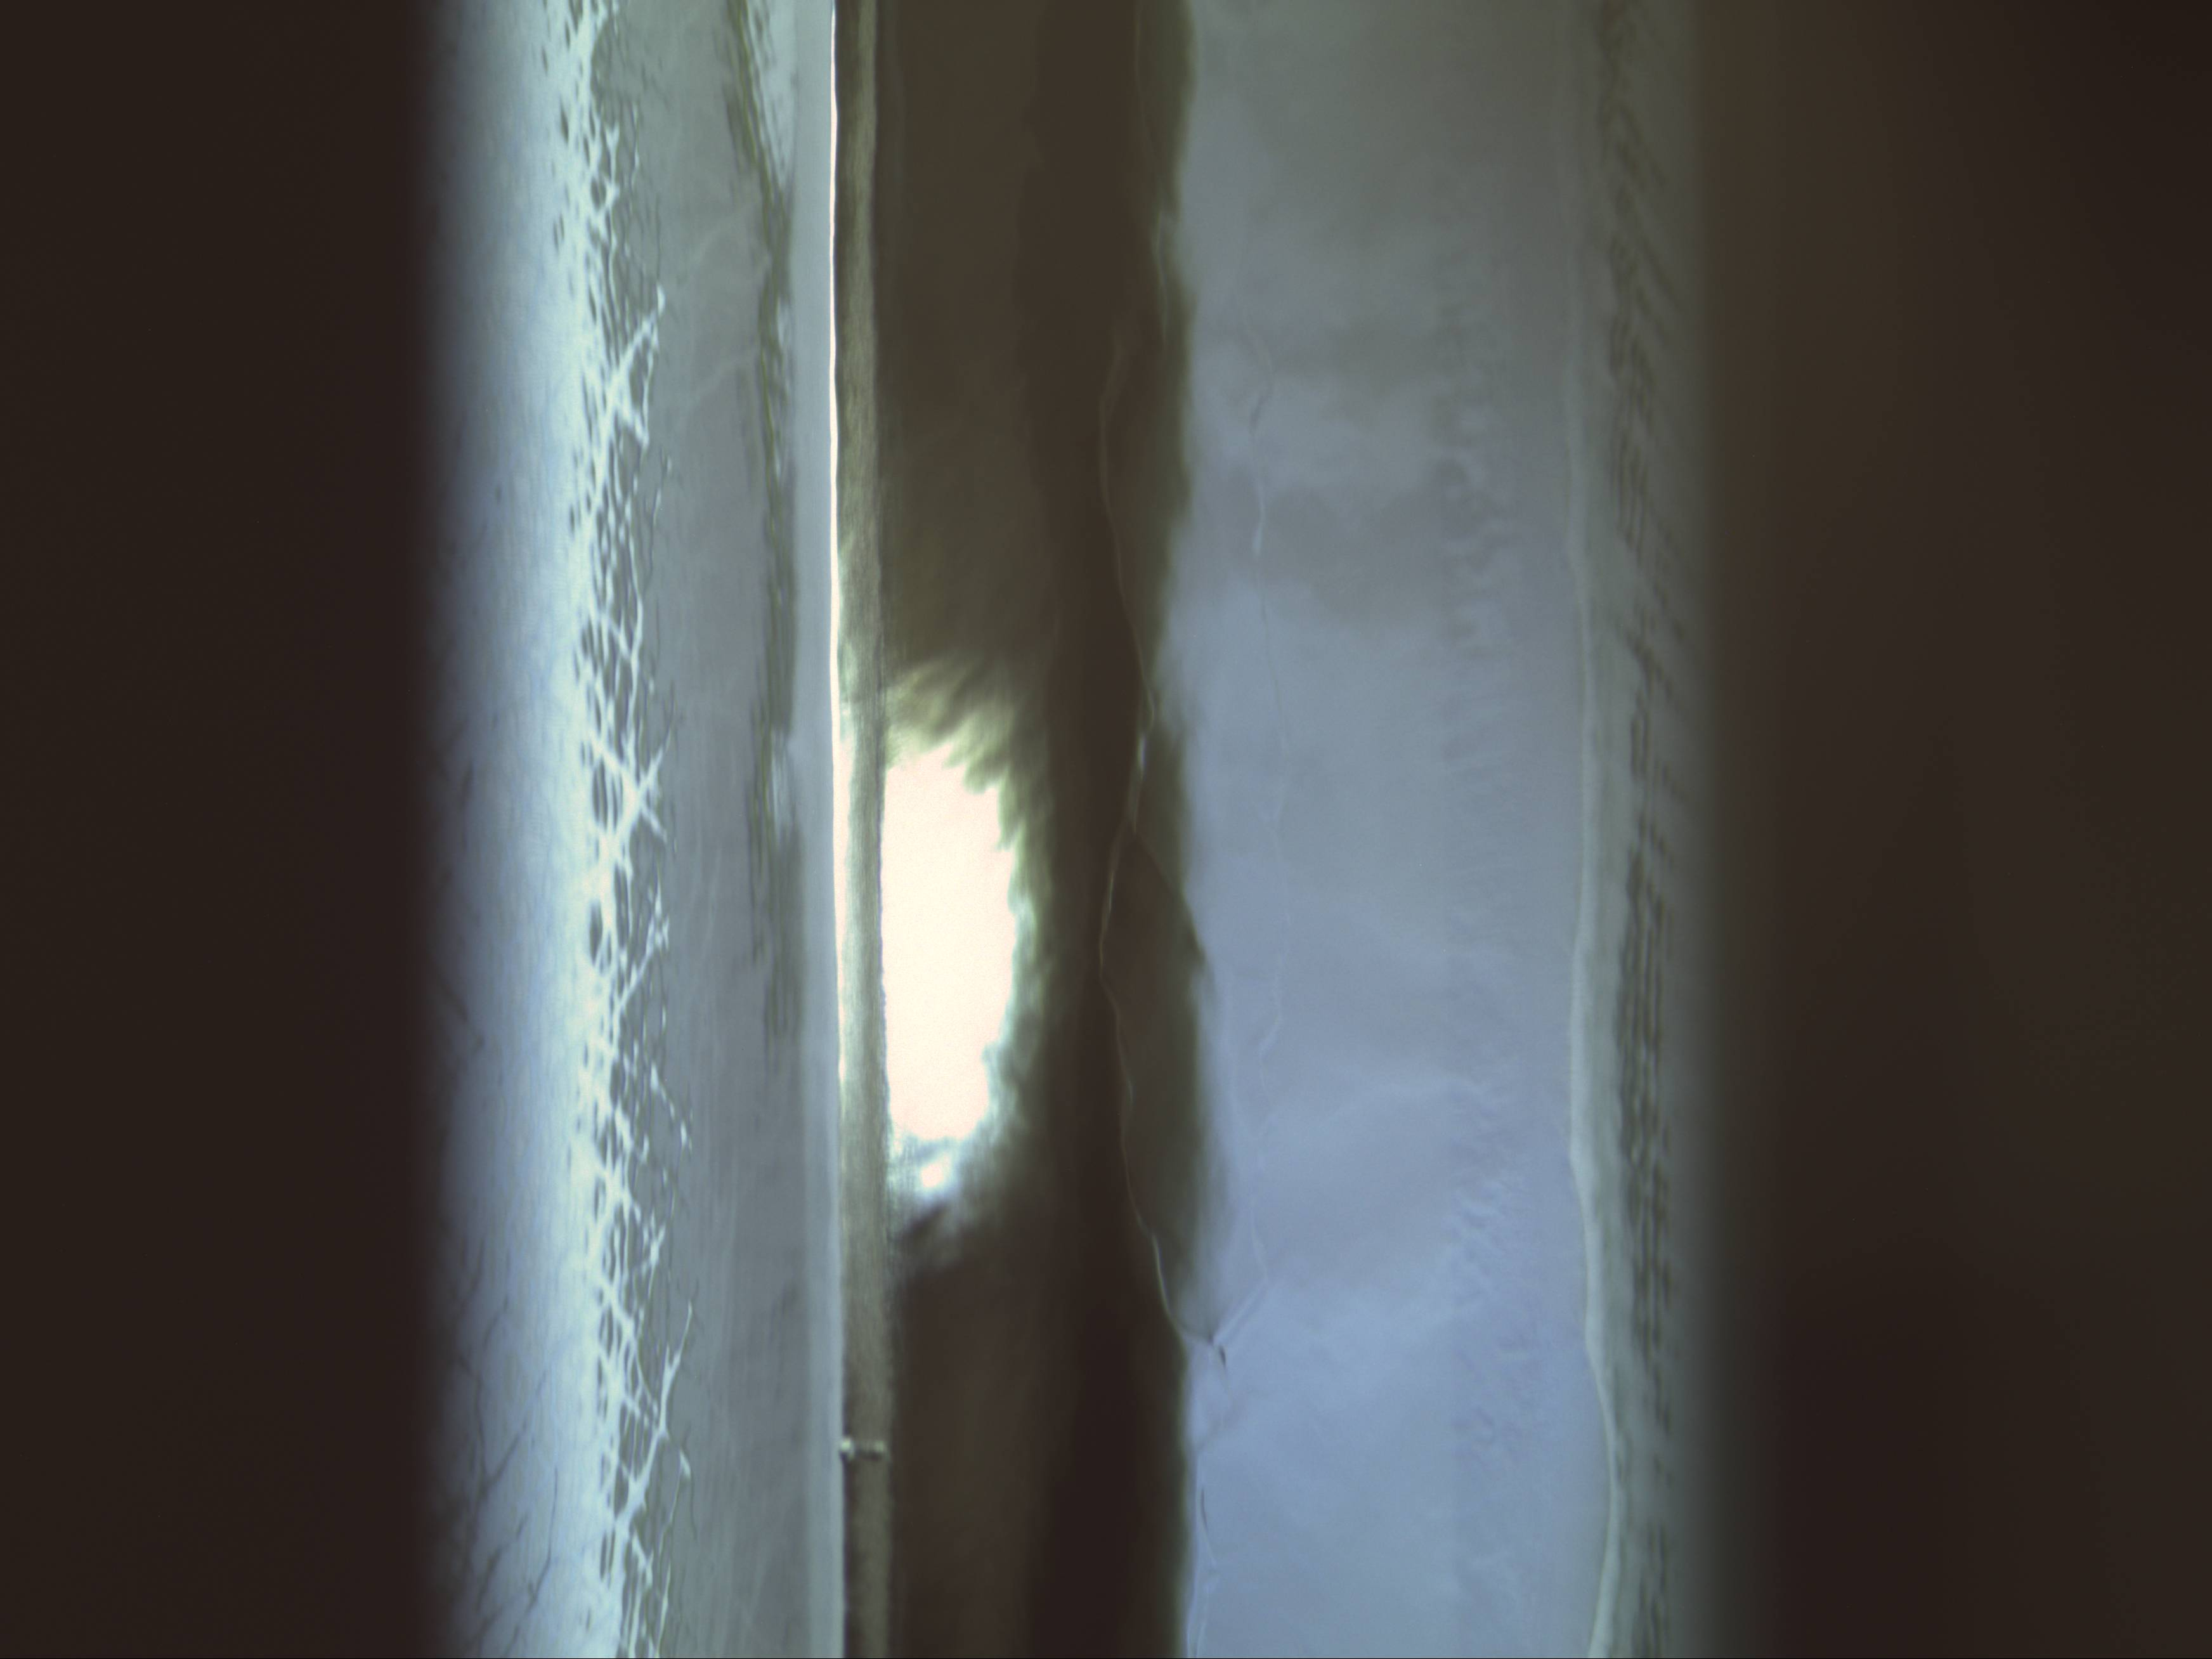defect: (822, 1427, 894, 1464)
